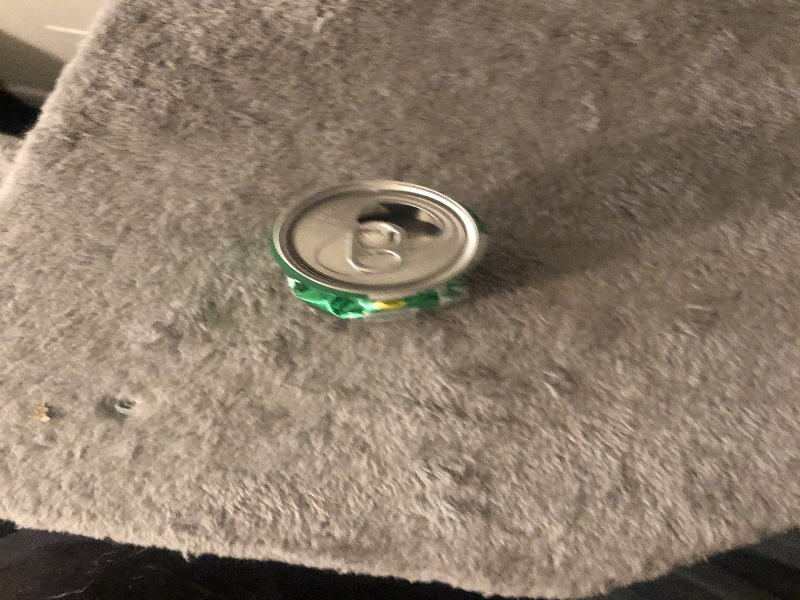metal: (264, 177, 502, 326)
